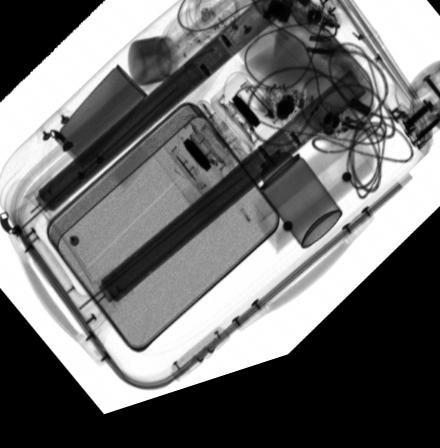Sprayer: (237, 144, 341, 267)
